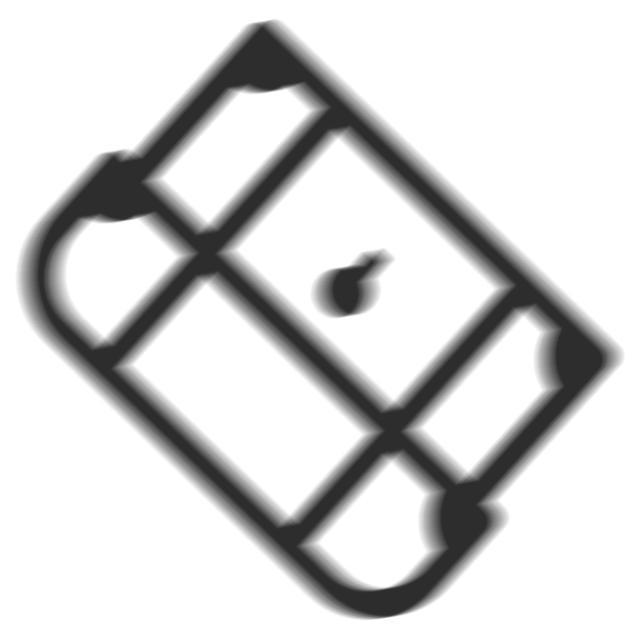treasure_box: (7, 10, 631, 633)
